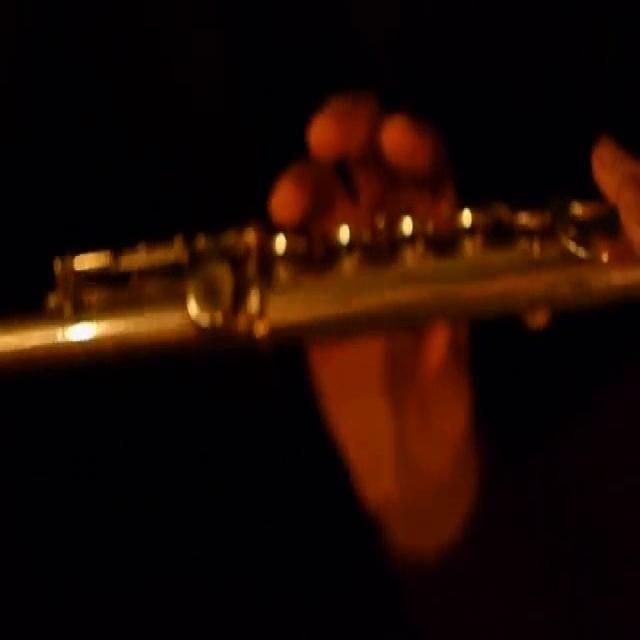Flute: (1, 176, 640, 395)
